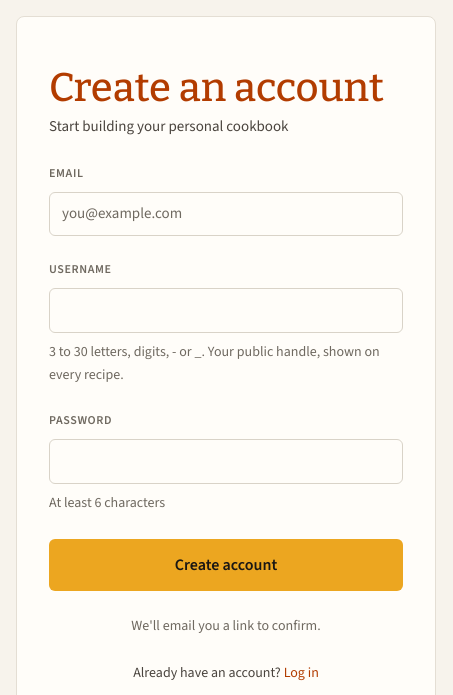
Test: Sign-up page › a press on the submit button does not hold back a later leaving of the email
Press the mouse on the button "Create account": (226, 565) x1=49 y1=539 x2=403 y2=591
In the field labelled "Email": (226, 214) x1=49 y1=192 x2=403 y2=236, type "jane@"
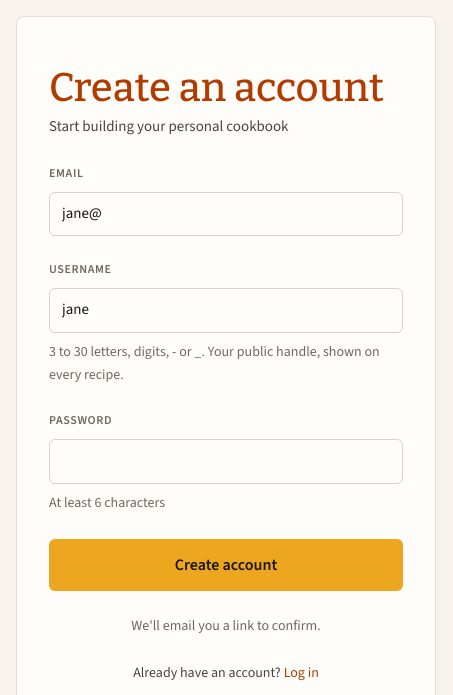
Leave the field labelled "Email", box x1=49 y1=192 x2=403 y2=236
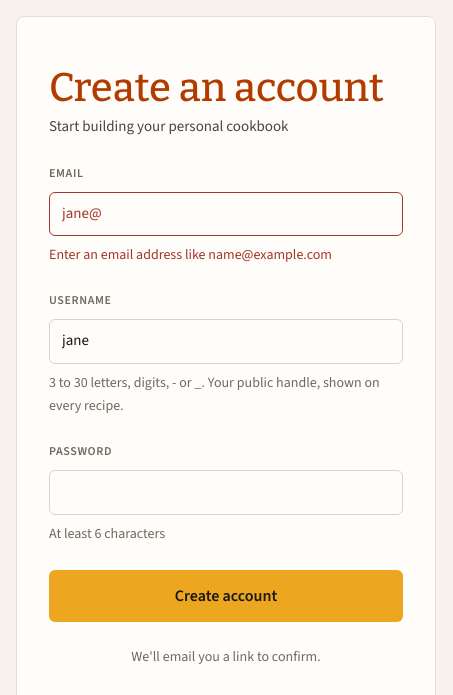
Result: the text "Enter an email address like name@example.com" is shown at x1=49 y1=245 x2=332 y2=265
